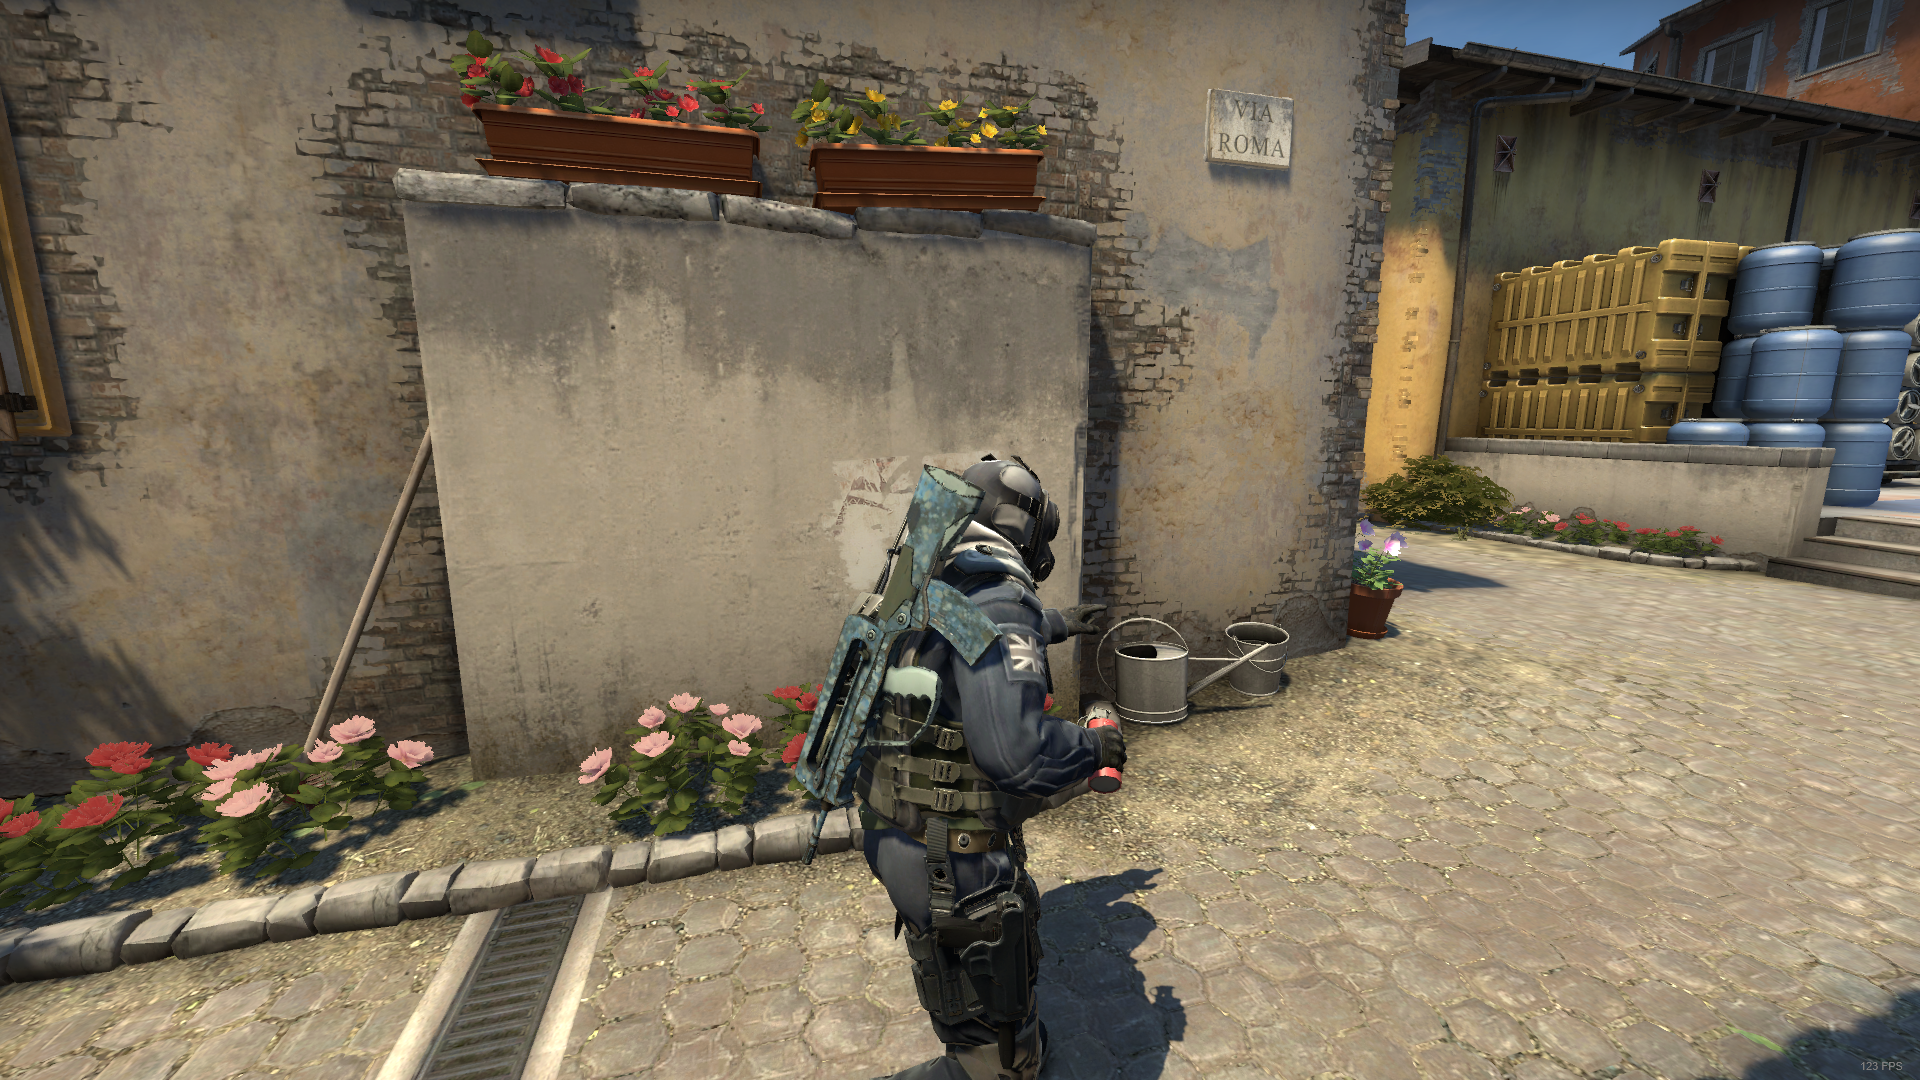ct: (827, 440, 1143, 1080)
